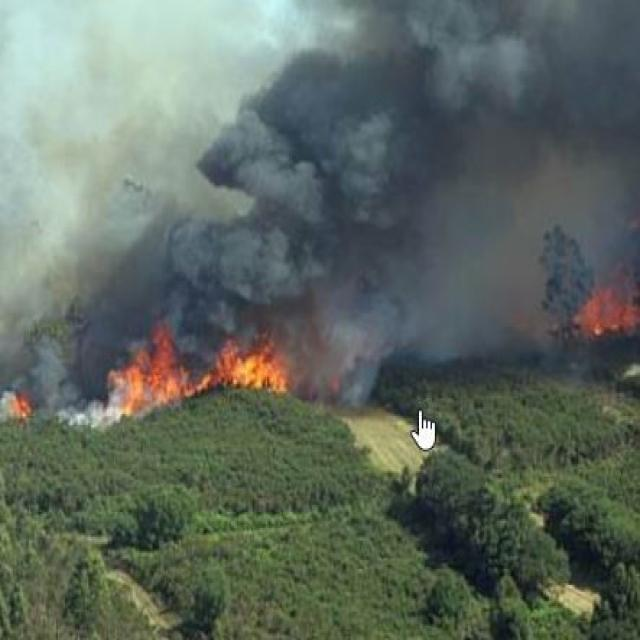Fire: (3, 333, 301, 413)
Smoke: (62, 0, 640, 353)
